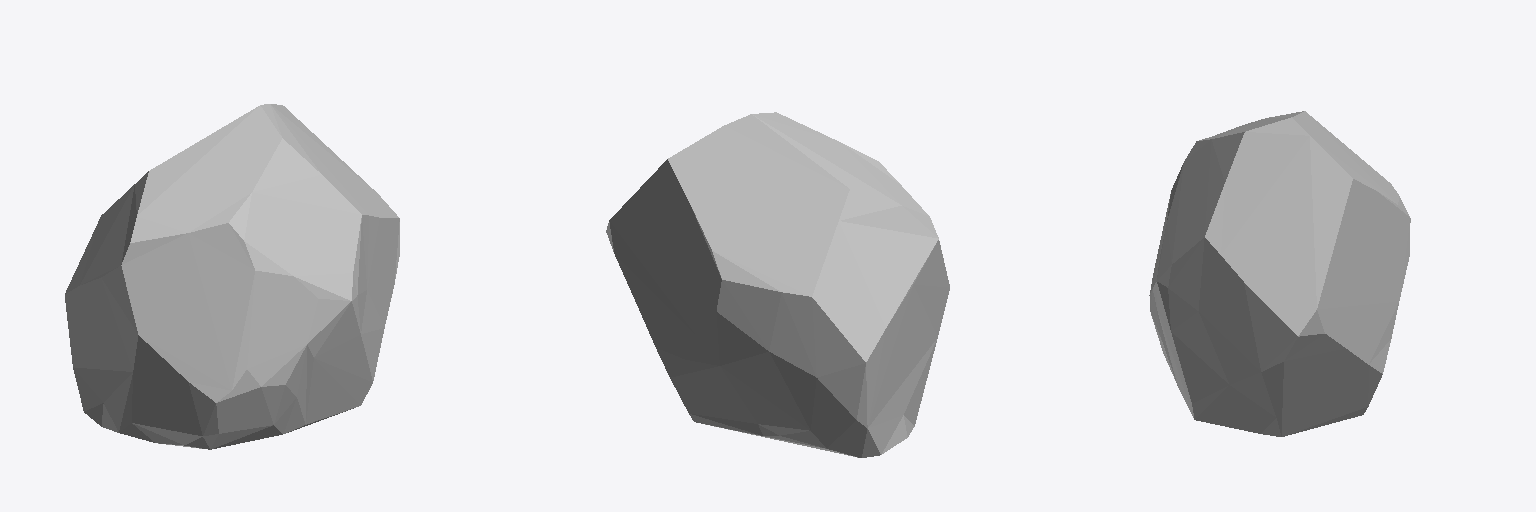
File: rock6.obj
3 renders of one model, left to right at view 1: azimuth 30°, elevation 25°; view 2: azimuth 150°, elevation 25°; view 3: azimuth 270°, elevation 25°, orthographic.
Visible parts, largest first — view 1: Stone_13_Sphere.012; view 2: Stone_13_Sphere.012; view 3: Stone_13_Sphere.012.
Part boxes in pixels (bbox=[...]): Stone_13_Sphere.012: bbox=[65, 104, 399, 449]; Stone_13_Sphere.012: bbox=[606, 112, 949, 457]; Stone_13_Sphere.012: bbox=[1149, 111, 1410, 436].
Size of the model in its own units: 4.4 by 3.96 by 3.26.